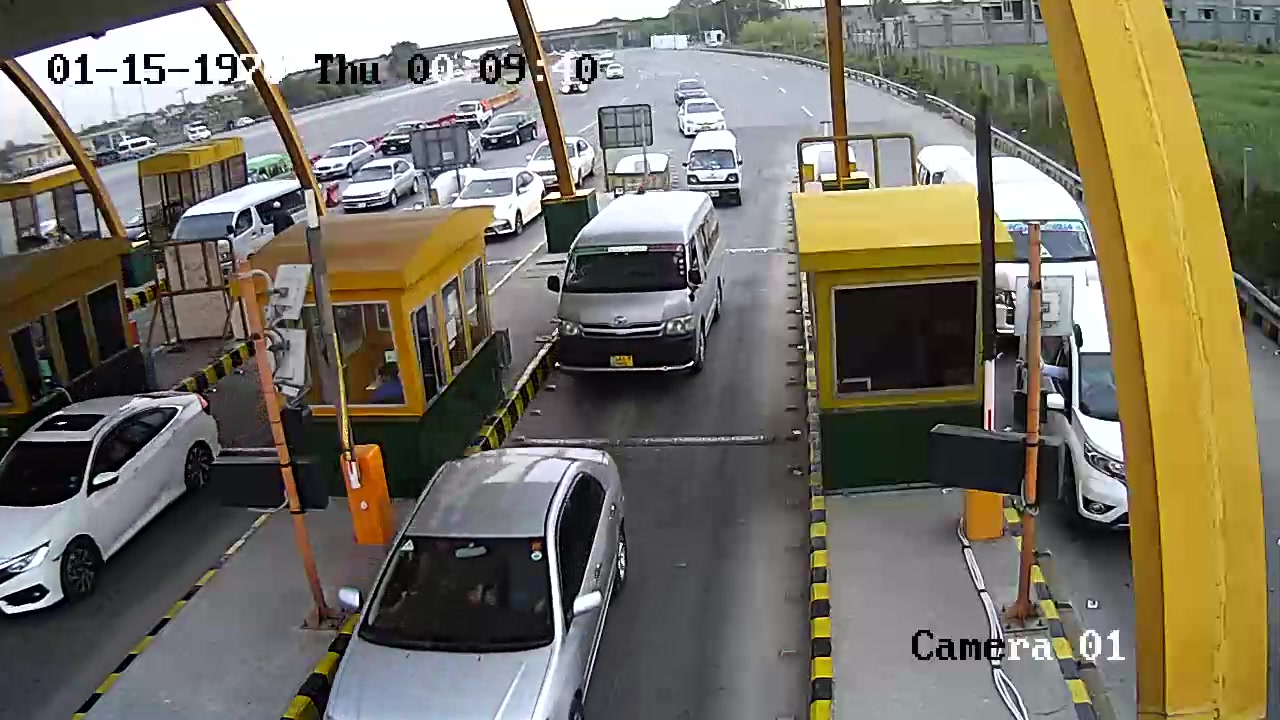F2: (549, 180, 731, 388)
